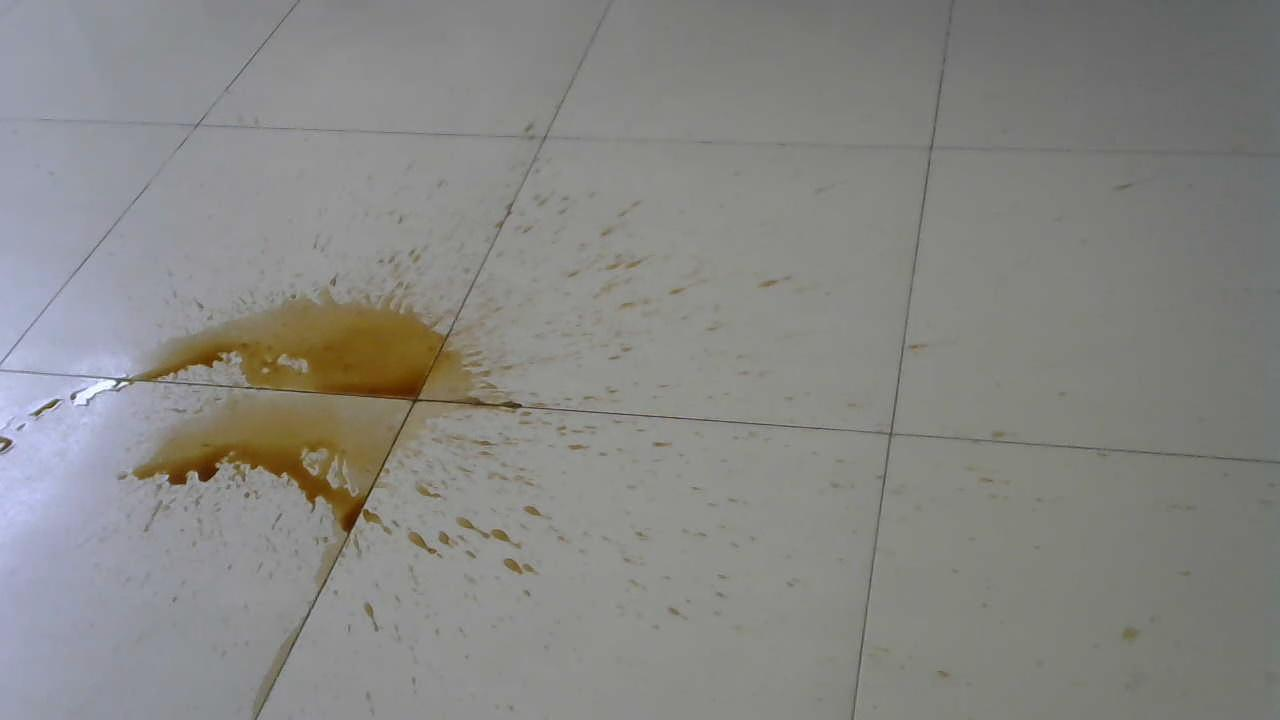dirty_floor: (16, 232, 649, 651)
